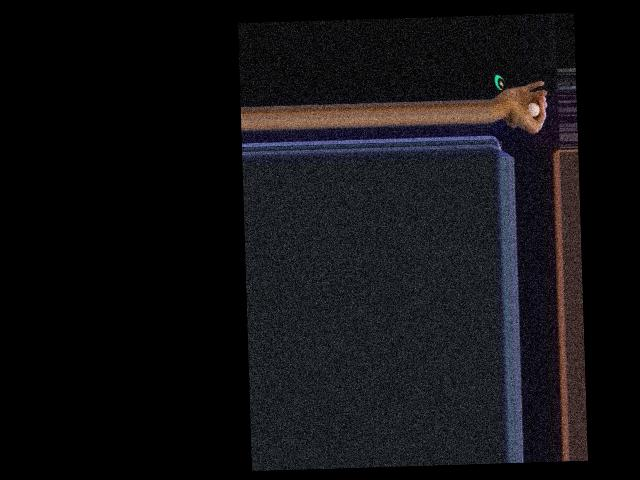egg: (528, 102, 540, 117)
